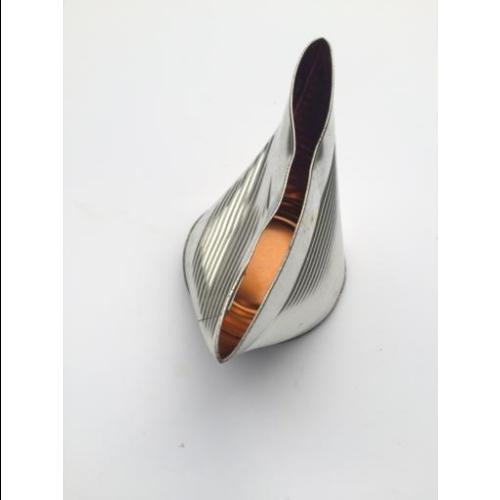metal: (186, 35, 348, 366)
